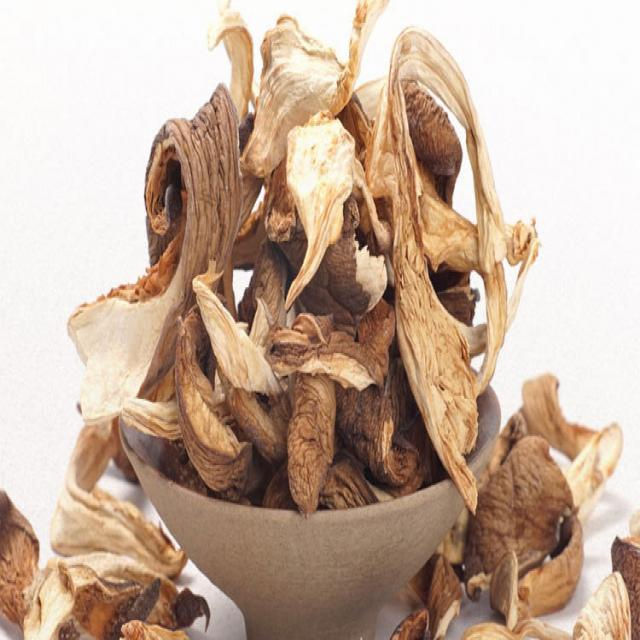Hypsizygus marmoreus: (71, 5, 535, 516), (408, 375, 640, 639), (0, 414, 212, 637)
